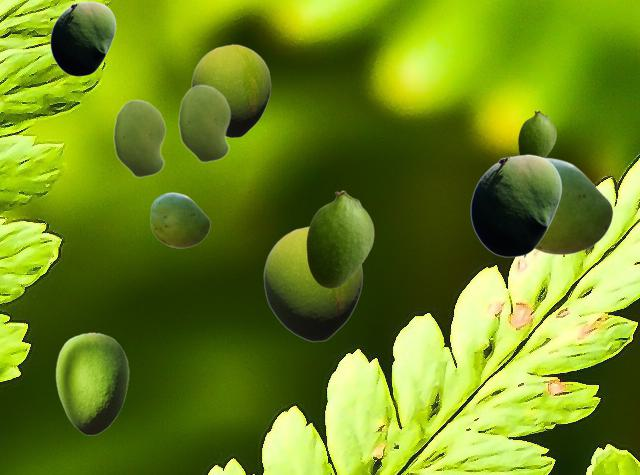green_mango: (263, 226, 362, 341), (470, 154, 561, 256), (535, 157, 612, 254), (55, 332, 128, 434), (191, 44, 270, 137), (306, 190, 373, 287), (50, 1, 115, 75), (113, 99, 165, 177), (178, 84, 230, 162), (150, 192, 209, 247), (518, 110, 555, 156)
